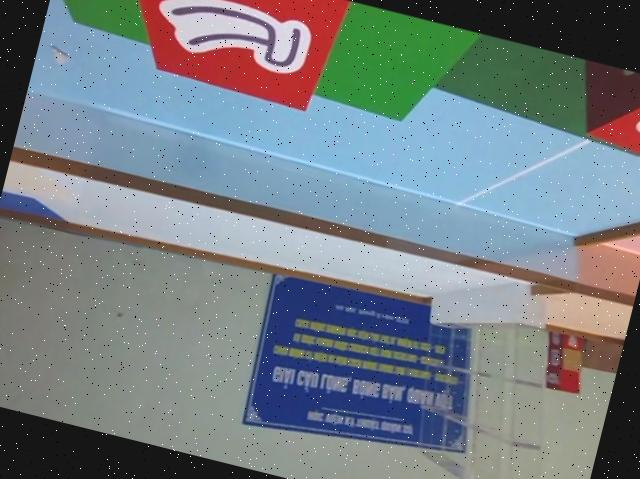R2 Fake: (87, 0, 351, 119)
